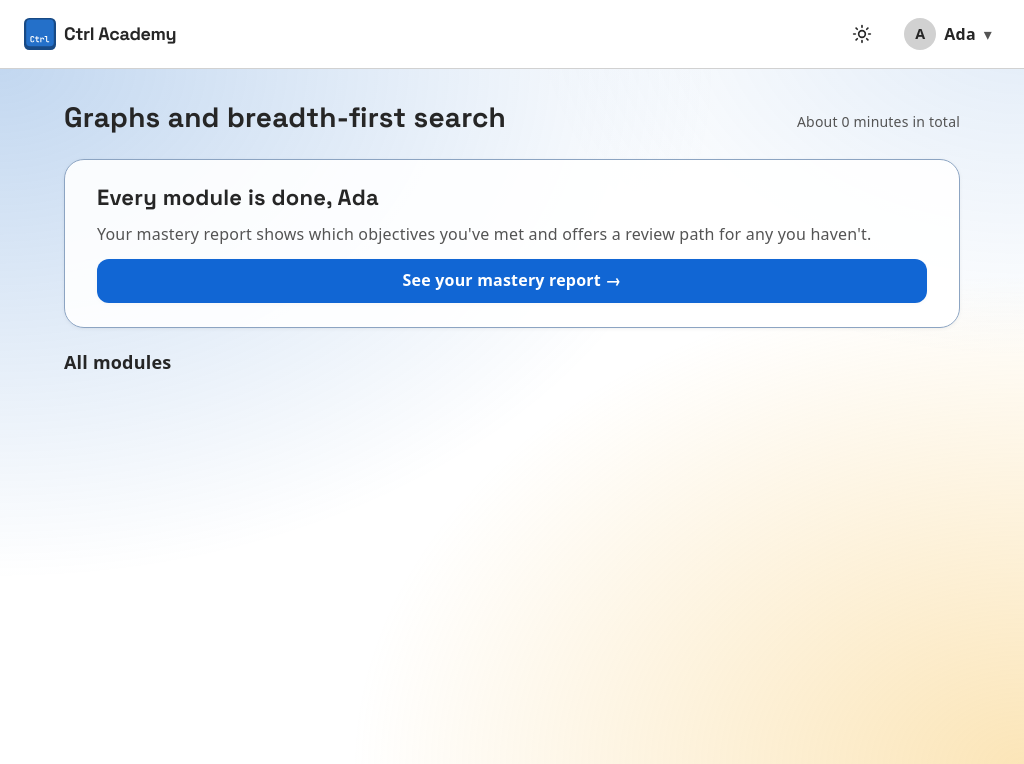
Test: account menu › closes on a click outside it, and after choosing a page
Click the button named "your account" at coordinates (948, 34), box [896, 12, 1000, 56]
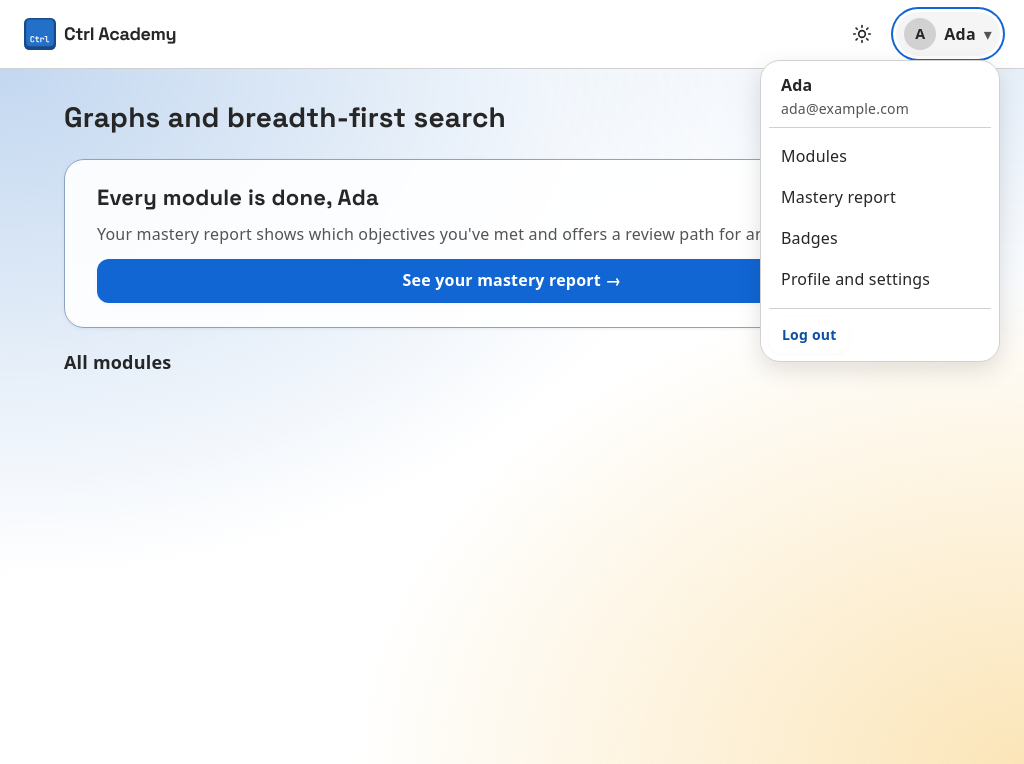
Click the heading "Graphs and breadth-first search" at coordinates (285, 118), box [64, 101, 506, 135]
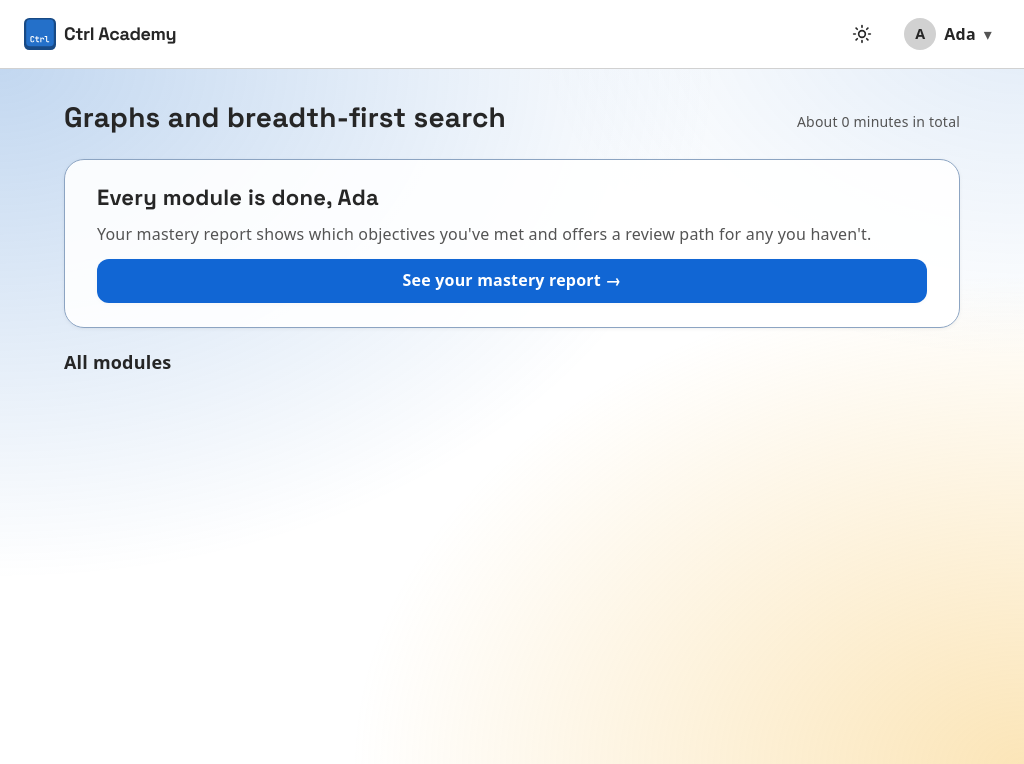
Now the link "Profile and settings" is gone
Click the button named "your account" at coordinates (948, 34), box [896, 12, 1000, 56]
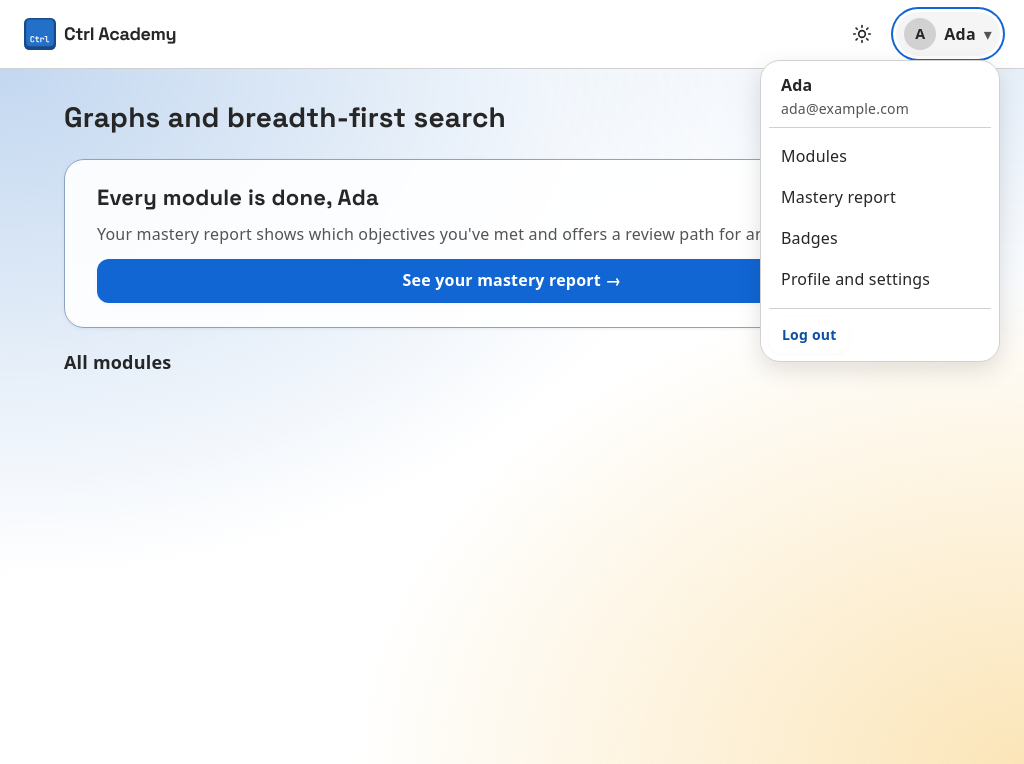
Click the link "Profile and settings" at coordinates (856, 279), box [781, 268, 930, 290]
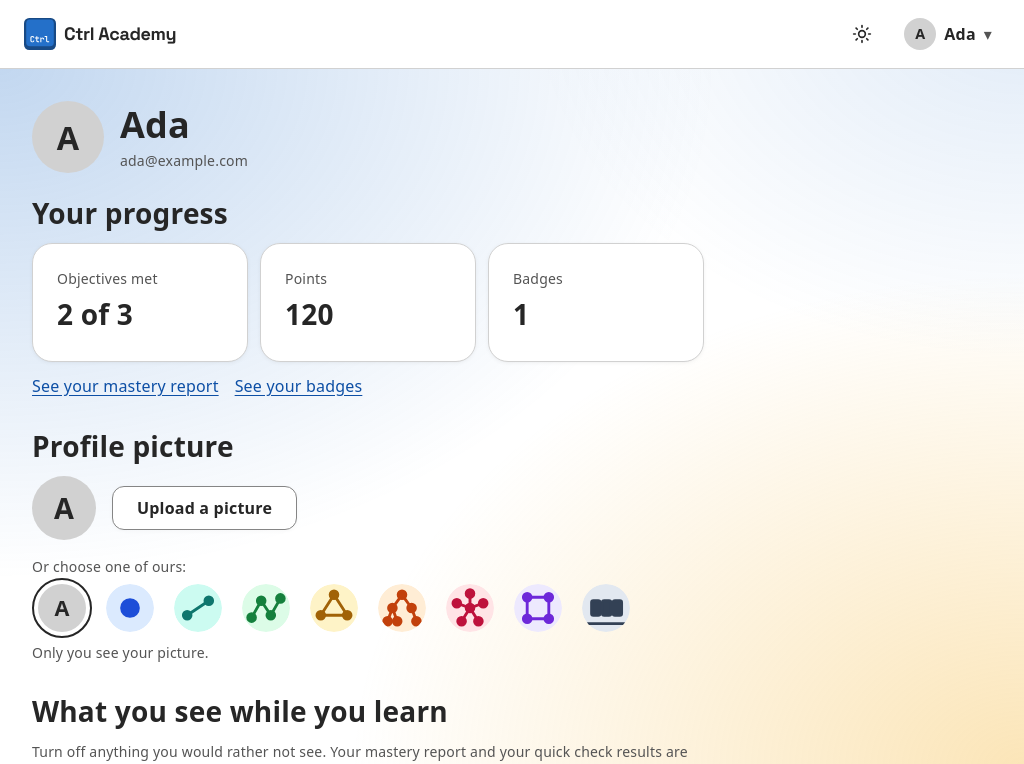
Now the heading "Ada" is shown, box [120, 100, 190, 149]
Now the link "Profile and settings" is gone
